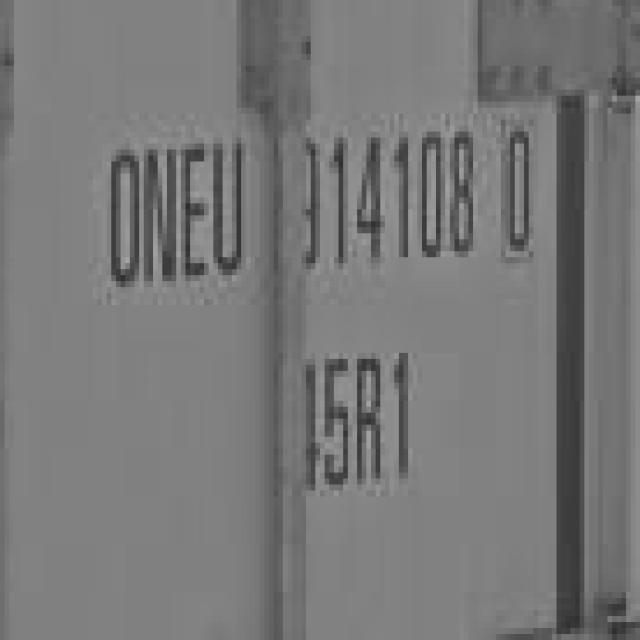dv: (495, 116, 548, 266)
owner: (96, 120, 255, 300)
serial: (289, 122, 480, 276)
size: (290, 343, 432, 498)
